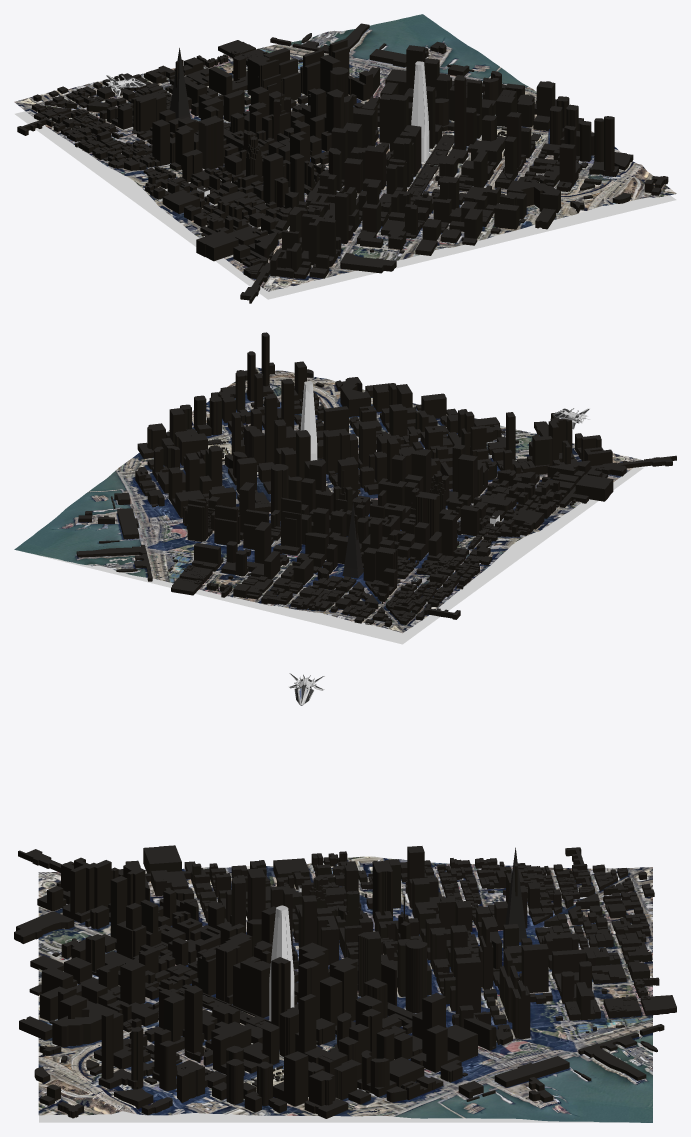
Rendered from cameraparenttry12.gltf.
3 renders of one model, top to bottom at view 1: azimuth 30°, elevation 25°; view 2: azimuth 150°, elevation 25°; view 3: azimuth 270°, elevation 25°, orthographic. The views are drawn at different scales.
Parts seen in each view (by area): view 1: map_15.osm_buildings, Terrain, Terrain_envelope; view 2: map_15.osm_buildings, Terrain, Terrain_envelope; view 3: map_15.osm_buildings, Terrain, Terrain_envelope.
Boxes of the visible parts, x1,y1,x2,y2 form: map_15.osm_buildings: (17,23,668,303); Terrain: (14,14,676,291); Terrain_envelope: (15,111,676,299); map_15.osm_buildings: (76,332,676,627); Terrain: (14,367,642,633); Terrain_envelope: (20,467,643,644); map_15.osm_buildings: (14,845,676,1118); Terrain: (38,856,652,1122); Terrain_envelope: (39,1111,628,1122).
Size of what is drawn, in the model's own units: 1662 by 519 by 1703.
Materials: 10 (2 with a texture image).
